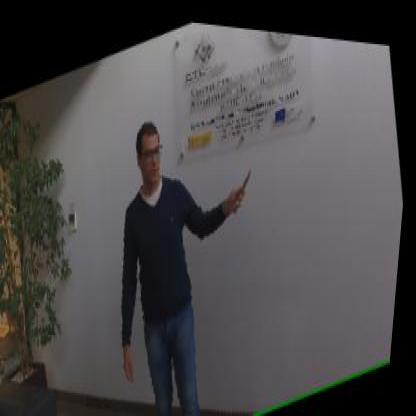knife: (228, 152, 262, 209)
